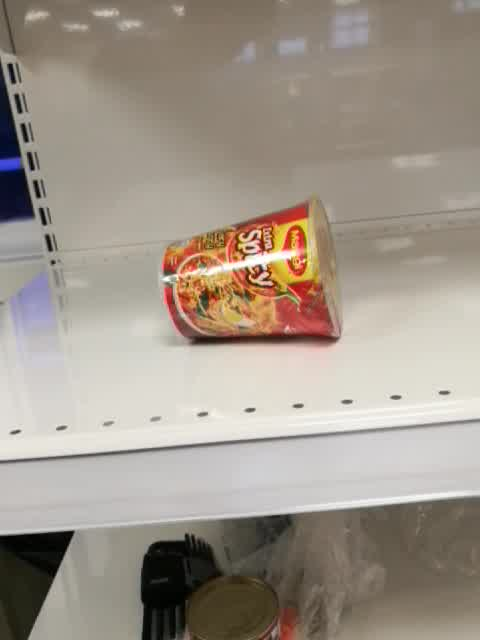maggi: (158, 194, 344, 344)
